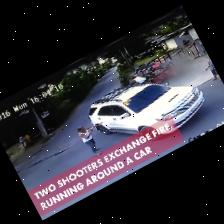person: (78, 127, 101, 155), (205, 56, 217, 79), (132, 74, 148, 84), (23, 135, 32, 145), (20, 137, 25, 147)
